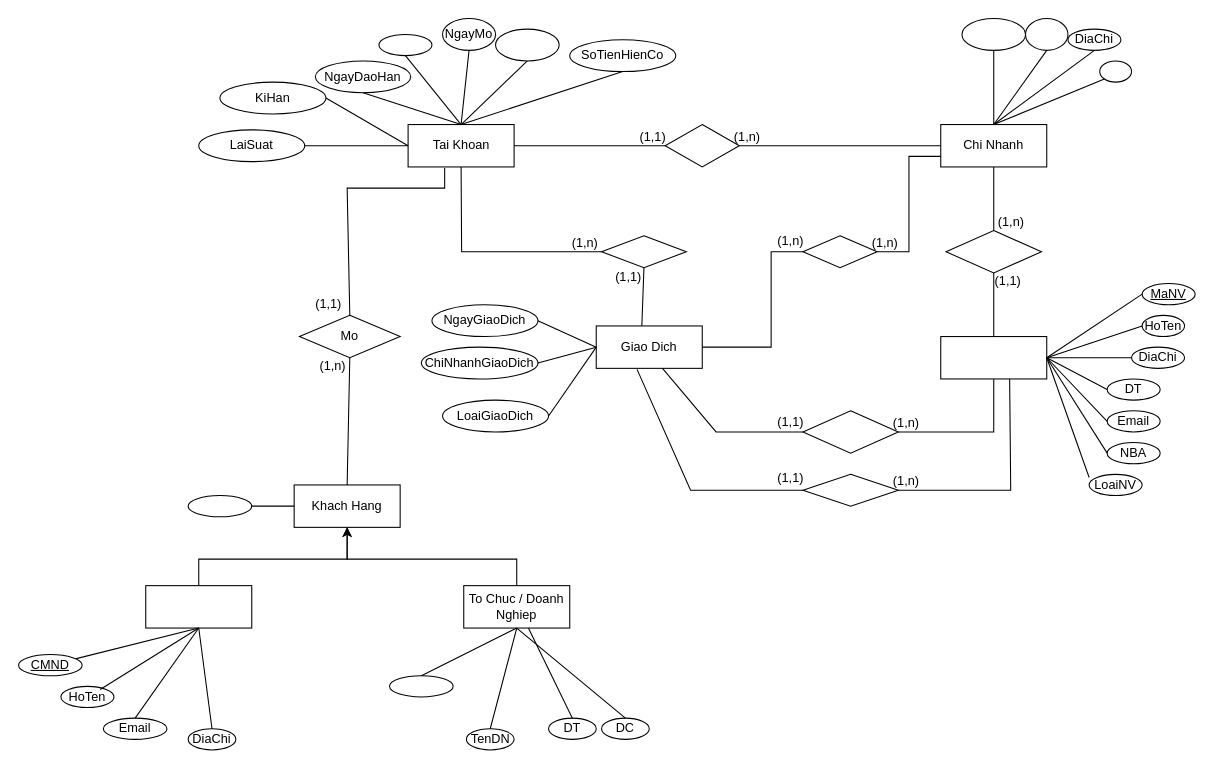
This 1214x768 diagram has some shape labels left out. Each missing label, with the centre of its shape:
Ca Nhan: (198,606)
Co: (839,251)
Lam Viec: (993,251)
MACN: (993,33)
MaDN: (420,686)
MaKH: (219,505)
MATK: (526,44)
Nhan Vien: (993,357)
Phe Duyet: (850,489)
SDT: (1115,71)
TenCN: (1046,33)
Thuc Hien: (643,251)
Tien Hanh: (850,431)
TienGui: (405,44)
Tại: (701,145)
